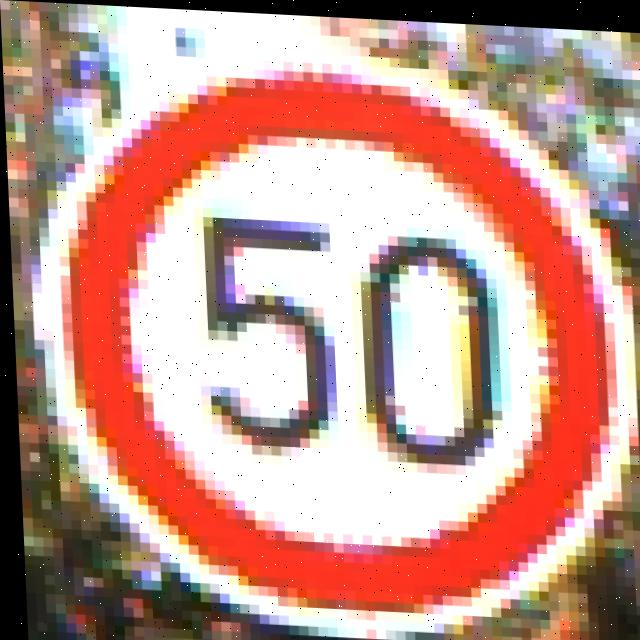speed_limit_50: (57, 52, 603, 616)
